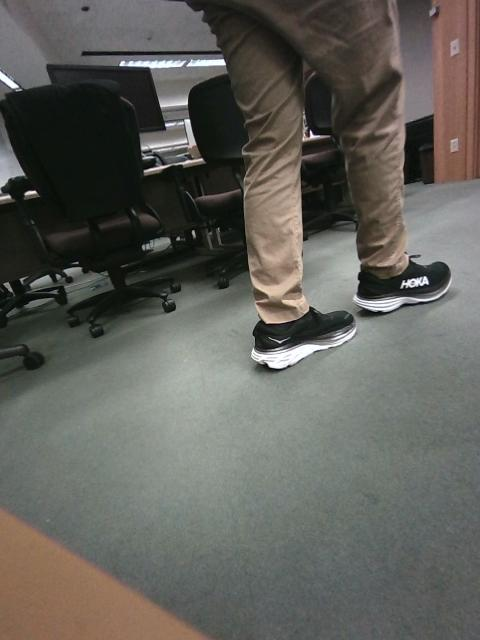block: (334, 349, 418, 418)
